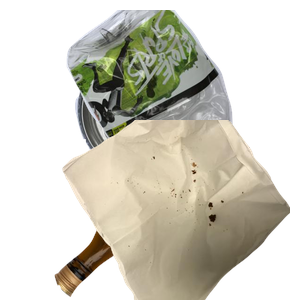glass: (52, 147, 292, 300)
metal: (73, 42, 277, 212)
plastic: (64, 10, 300, 190)
trash: (60, 120, 300, 300)
